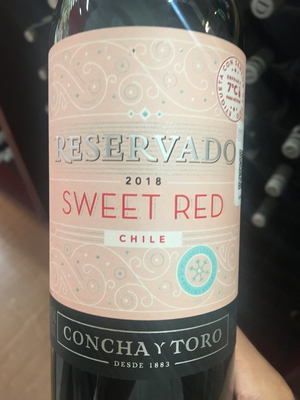reservado sweet red: (45, 15, 261, 399)
